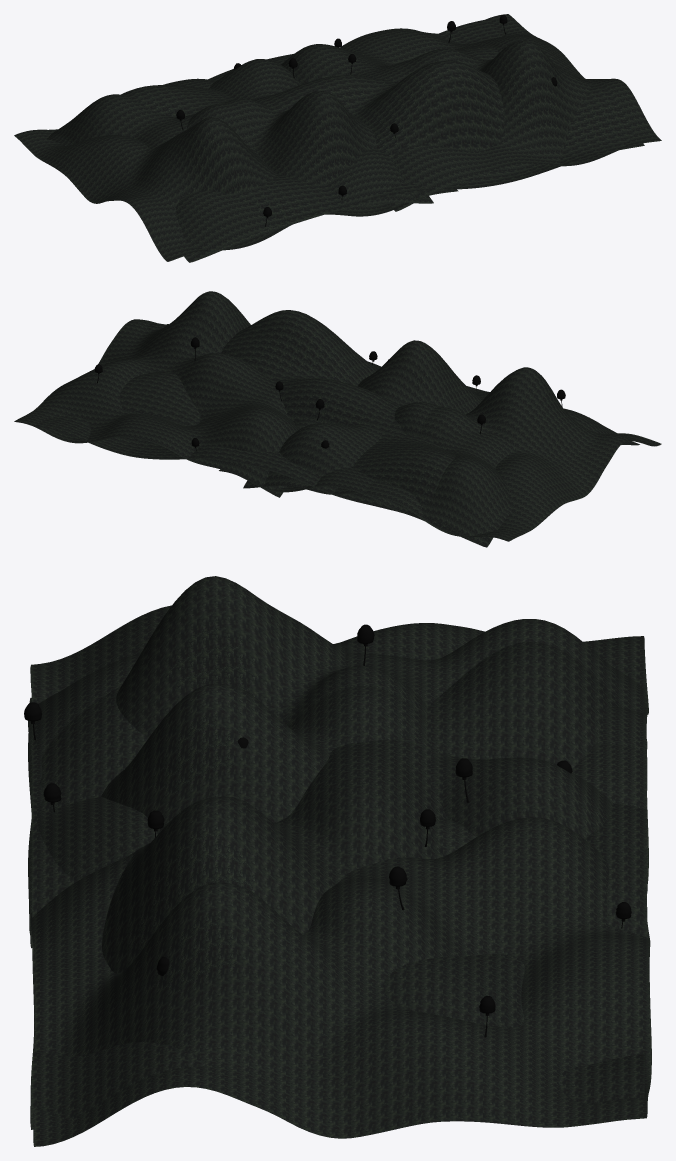
File: island one.glb
3 views of the same model, one above another, from view 1: azimuth 30°, elevation 25°; view 2: azimuth 150°, elevation 25°; view 3: azimuth 270°, elevation 25° (orthographic). The views are drawn at different scales.
Visible parts, largest first — view 1: Plane001 (×4); view 2: Plane001 (×4); view 3: Plane001 (×4).
Boxes of the visible parts, x1=… form: Plane001 (×4): x1=14, y1=14, x2=661, y2=262; Plane001 (×4): x1=14, y1=291, x2=661, y2=547; Plane001 (×4): x1=28, y1=576, x2=651, y2=1146.
Bounding box in the file's own units: 0.2806 × 0.05 × 0.153.
Materials: 4 (1 with a texture image).
